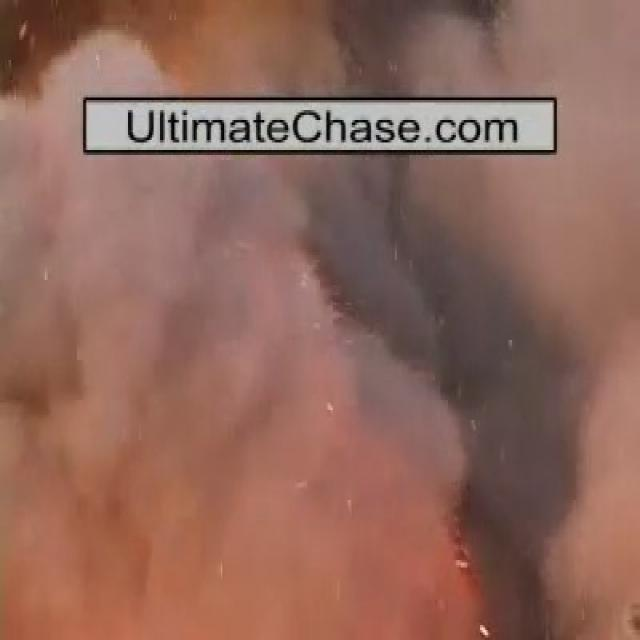smoke: (22, 162, 580, 562), (82, 0, 547, 95)
